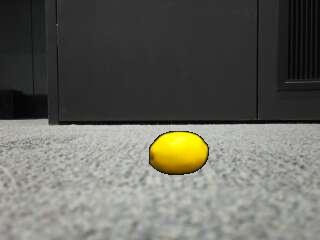lemon: (149, 130, 208, 173)
